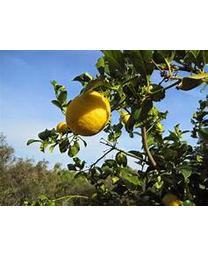lemon: (67, 93, 111, 136)
